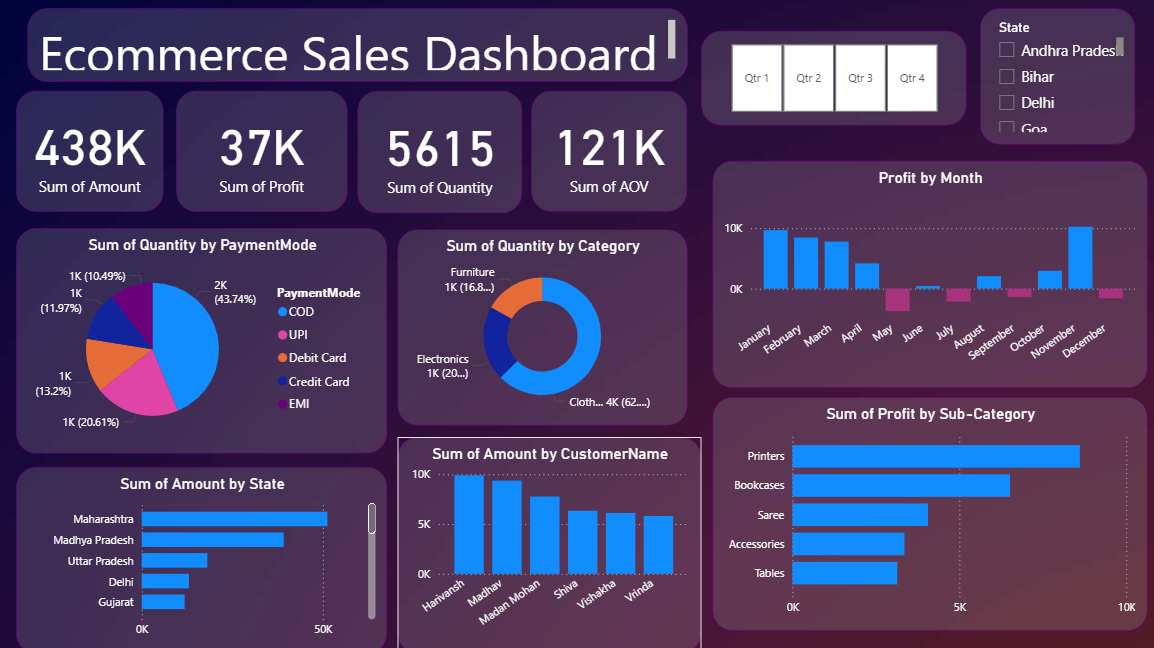

The page's visual inventory and layout, read from the dashboard file:
{"tool":"powerbi","page":{"name":"Page 1","canvas":[1280,720],"ordinal":0},"visuals":[{"type":"textbox","box":[30.2,12.3,724.5,81],"z":0},{"type":"columnChart","title":" Profit by Month","fields":{"Category":["Orders.Order Date.Variation.Date Hierarchy.Month"],"Y":["Details.Profit"]},"box":[782.2,179.8,477.5,249.7],"z":1000},{"type":"barChart","fields":{"Category":["Details.Sub-Category"],"Y":["Details.Profit"]},"box":[782.2,439.1,477.5,256.6],"z":2000},{"type":"donutChart","fields":{"Y":["Details.Quantity"],"Category":["Details.Category"]},"box":[436.4,255.2,318.4,215.4],"z":3000},{"type":"pieChart","fields":{"Category":["Details.PaymentMode"],"Y":["Details.Quantity"]},"box":[17.8,253.9,407.5,247],"z":4000},{"type":"card","fields":{"Values":["Details.Profit"]},"box":[193.5,102.9,188,133.1],"z":5000},{"type":"card","fields":{"Values":["Details.Amount"]},"box":[17.8,102.9,161.9,133.1],"z":6000},{"type":"card","fields":{"Values":["Details.Quantity"]},"box":[392.5,102.9,181.1,134.5],"z":7000},{"type":"card","fields":{"Values":["Details.AOV"]},"box":[583.2,102.9,171.5,133.1],"z":8000},{"type":"barChart","fields":{"Category":["Orders.State"],"Y":["Details.Amount"]},"box":[17.8,516,407.5,204.5],"z":9000},{"type":"columnChart","fields":{"Category":["Orders.CustomerName"],"Y":["Details.Amount"]},"box":[436.4,483,333.4,237.4],"z":10000},{"type":"slicer","fields":{"Values":["Orders.Order Date.Variation.Date Hierarchy.Quarter"]},"box":[769.8,37,290.9,104.3],"z":10001},{"type":"slicer","fields":{"Values":["Orders.State"]},"box":[1075.8,12.3,170.2,149.6],"z":10002}]}

Visuals, with their boxes in screenshot pixels (x1, y1, x2, y2), scaled from the page's 1280x720 canvas onto the 1154x648 screenshot:
textbox: <region>27, 11, 680, 84</region>
" Profit by Month" columnChart: <region>705, 162, 1136, 387</region>
barChart - Details.Sub-Category x Details.Profit: <region>705, 395, 1136, 626</region>
donutChart - Details.Quantity x Details.Category: <region>393, 230, 680, 424</region>
pieChart - Details.PaymentMode x Details.Quantity: <region>16, 229, 383, 451</region>
card - Details.Profit: <region>174, 93, 344, 212</region>
card - Details.Amount: <region>16, 93, 162, 212</region>
card - Details.Quantity: <region>354, 93, 517, 214</region>
card - Details.AOV: <region>526, 93, 680, 212</region>
barChart - Orders.State x Details.Amount: <region>16, 464, 383, 647</region>
columnChart - Orders.CustomerName x Details.Amount: <region>393, 435, 694, 647</region>
slicer - Orders.Order Date.Variation.Date Hierarchy.Quarter: <region>694, 33, 956, 127</region>
slicer - Orders.State: <region>970, 11, 1123, 146</region>
